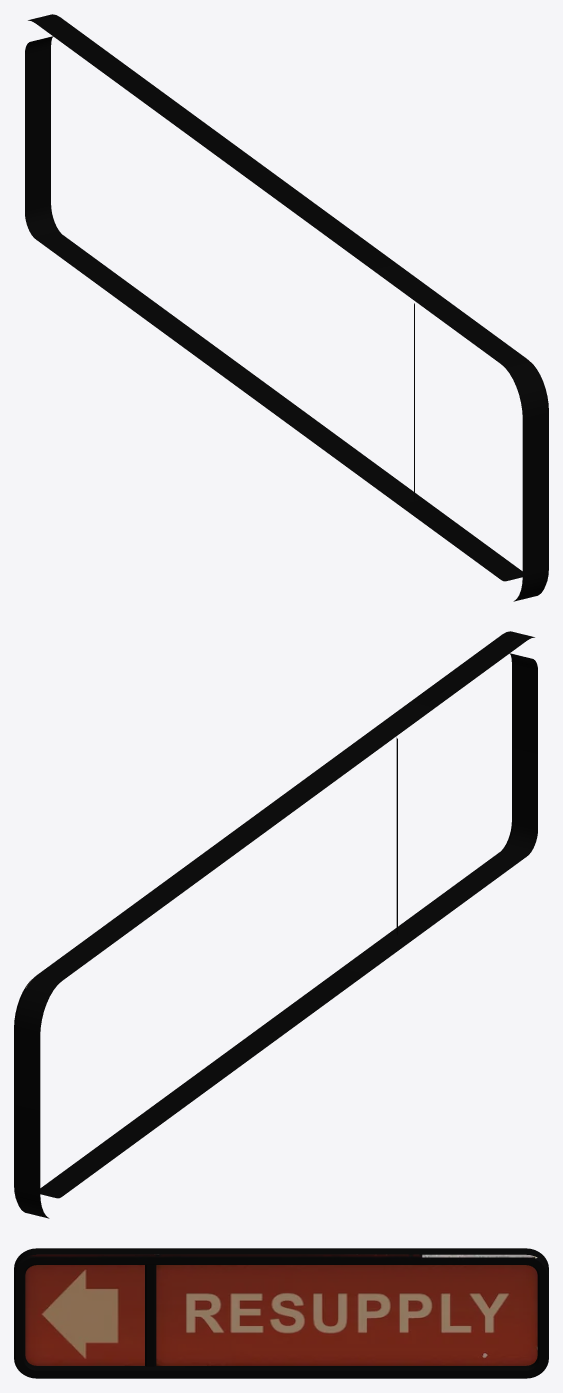
3 views of the same model, one above another, from view 1: azimuth 30°, elevation 25°; view 2: azimuth 150°, elevation 25°; view 3: azimuth 270°, elevation 25° (orthographic). The views are drawn at different scales.
Parts seen in each view (by area): view 1: body0_model0_lod0_mesh0; view 2: body0_model0_lod0_mesh0; view 3: body0_model0_lod0_mesh0.
Boxes of the visible parts, x1,y1,x2,y2 form: body0_model0_lod0_mesh0: (25,14,548,601); body0_model0_lod0_mesh0: (14,631,537,1218); body0_model0_lod0_mesh0: (14,1248,548,1378).
Bounding box in the file's own units: 2.99 × 24 × 94.
Materials: 1 (1 with a texture image).
